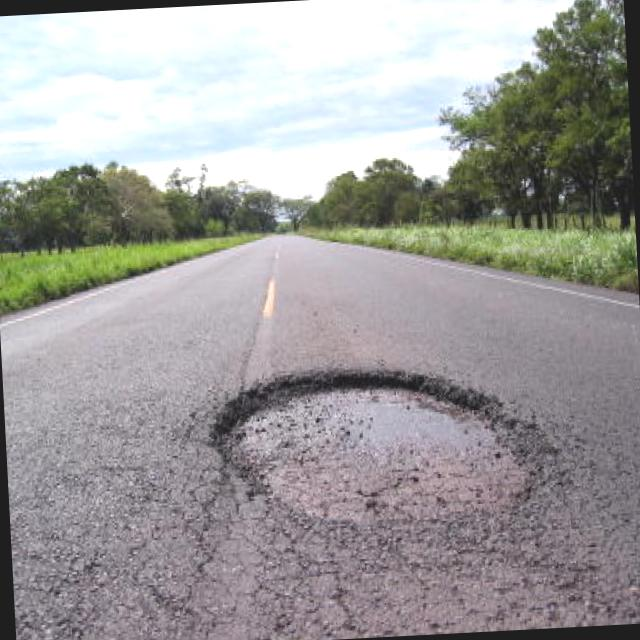bad-road: (207, 356, 565, 536)
